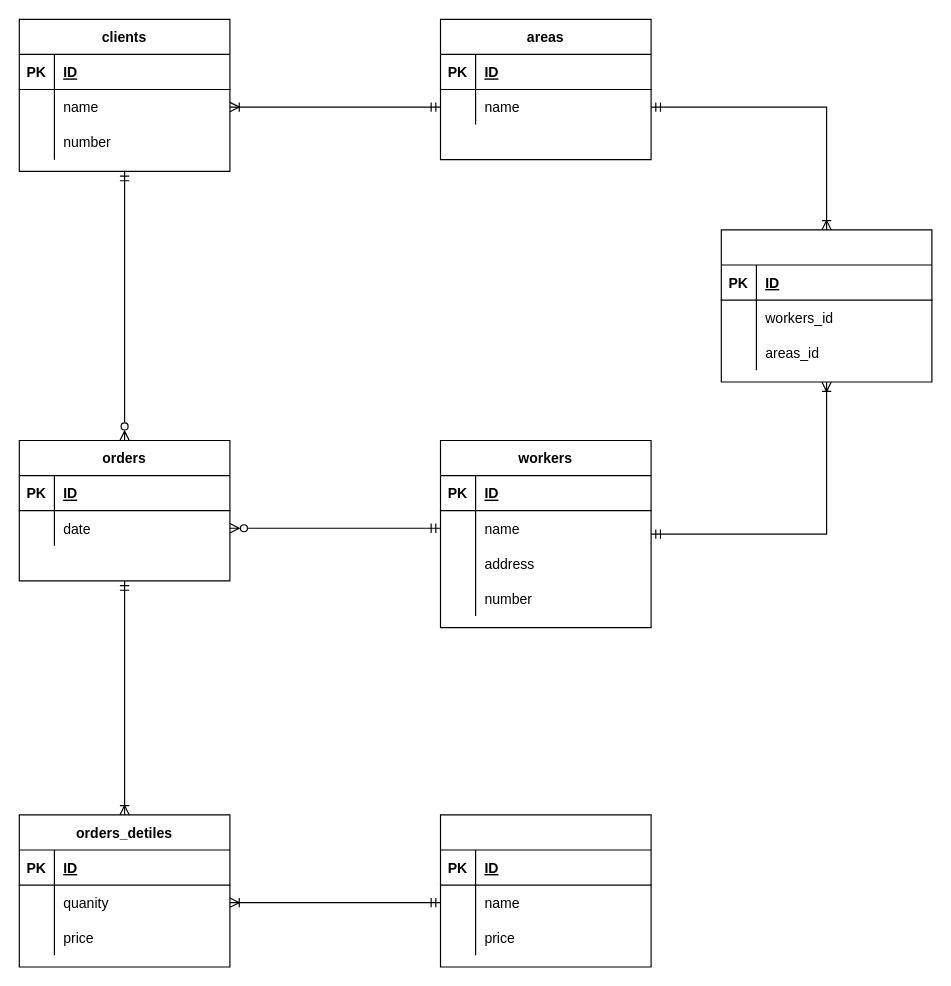
This 951x986 diagram has some shape labels left out. The box of each missing label's shape, as (x1, y1, x2, y2) in pixels:
cosmetics: (439, 814, 651, 967)
workers_area: (720, 229, 932, 382)
